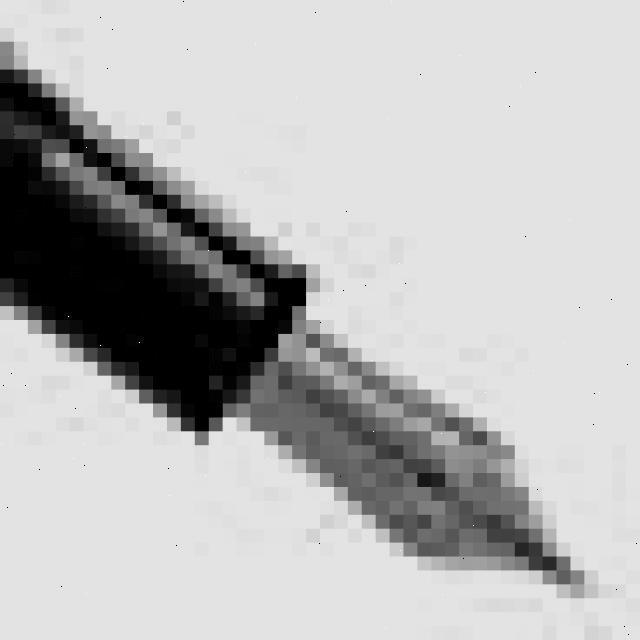pen: (0, 37, 599, 601)
